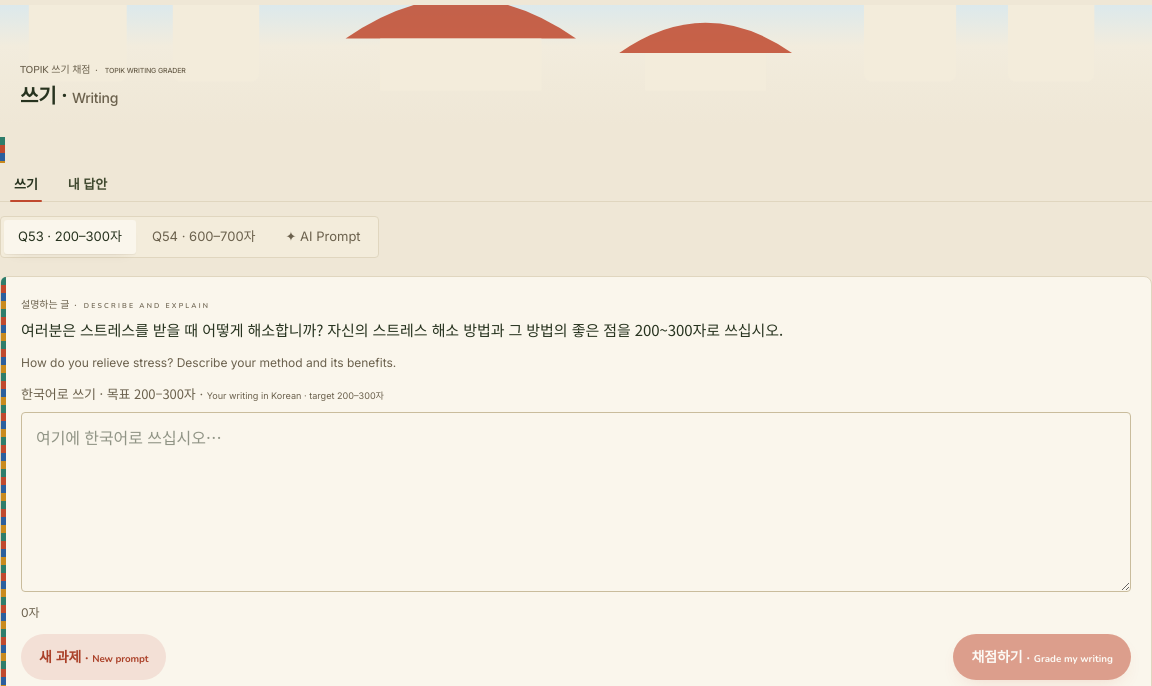
Test case: Writing › shows the busy status while grading and keeps the Grade button focusable
This screenshot has width=1152, height=686.
Expected: the text "스트레스 해소 방법" is shown, [21,318,783,340]
In the text box labelled "Your writing in Korean": x=576, y=502 [21,412,1131,592], type "안녕하세요"
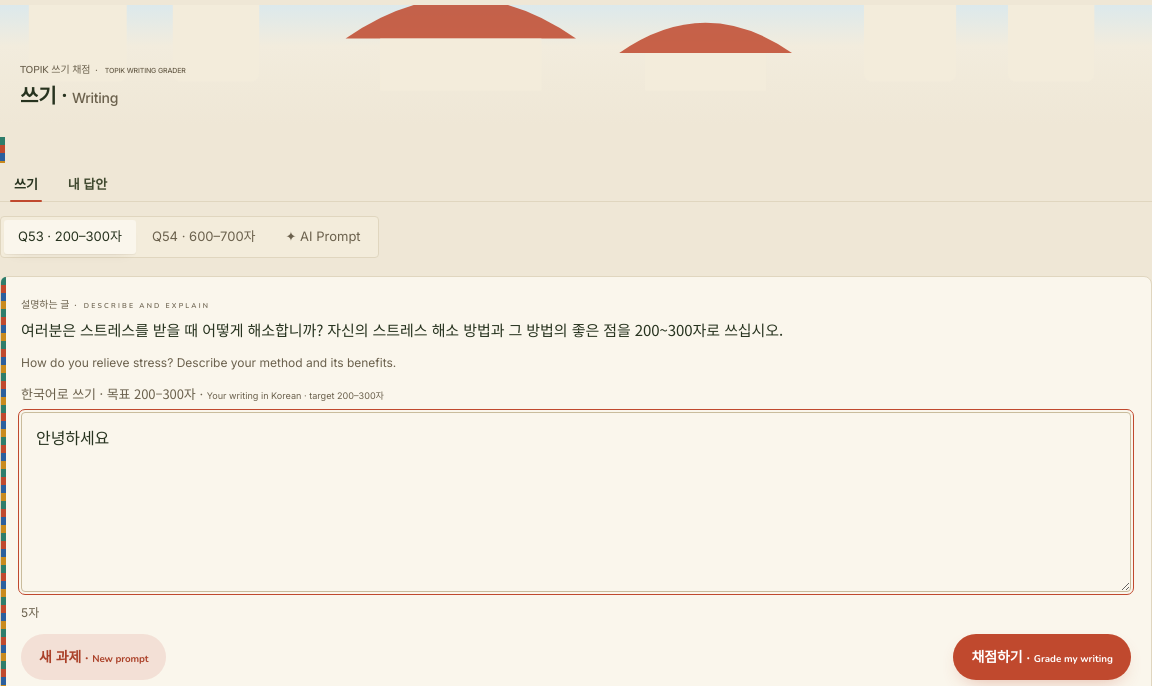
Click the button "채점하기 · Grade my writing": x=1042, y=657 [953,634,1131,680]
(page scrolled)
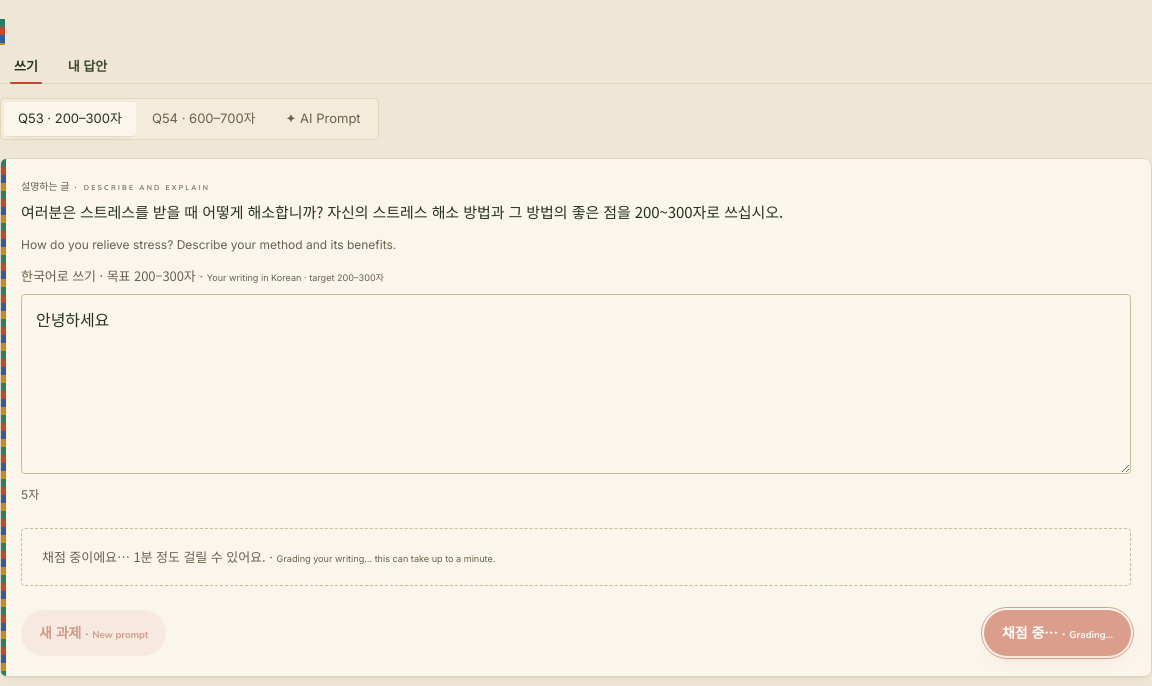
Expected: the message shows "Grading your writing", [277,553,495,564]
Expected: the button "채점 중… · Grading…" is enabled
Click the button "채점 중… · Grading…": x=1058, y=633 [984,610,1131,656]
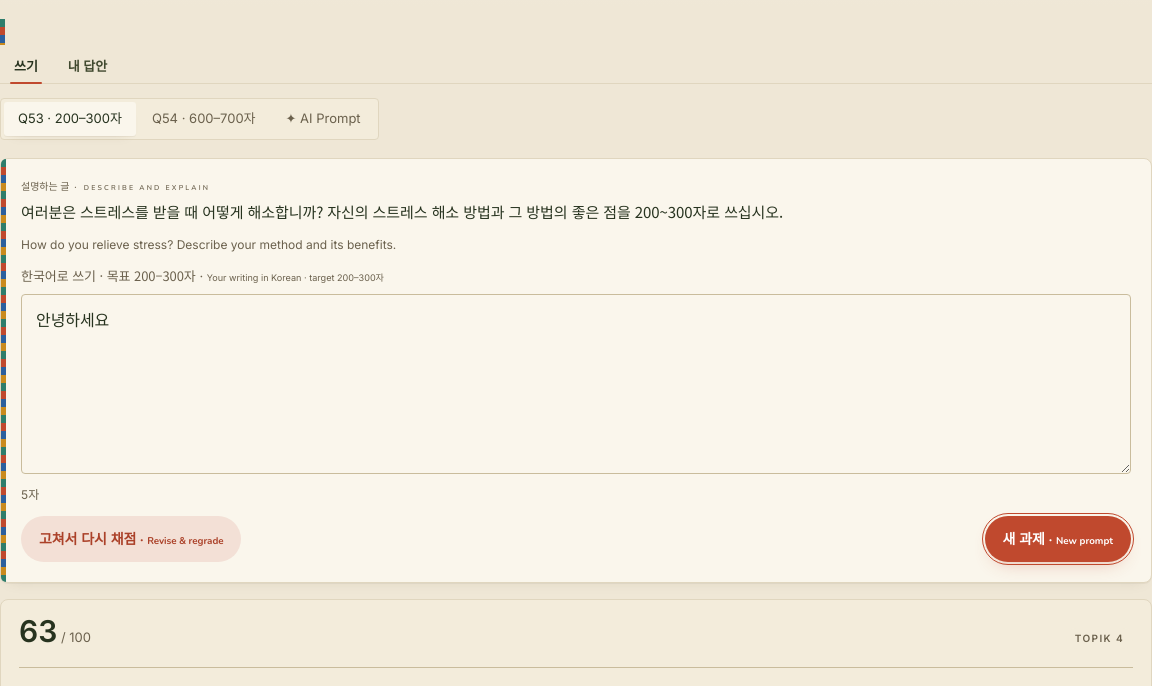
Expected: the text "63" is shown, [19,613,57,649]
